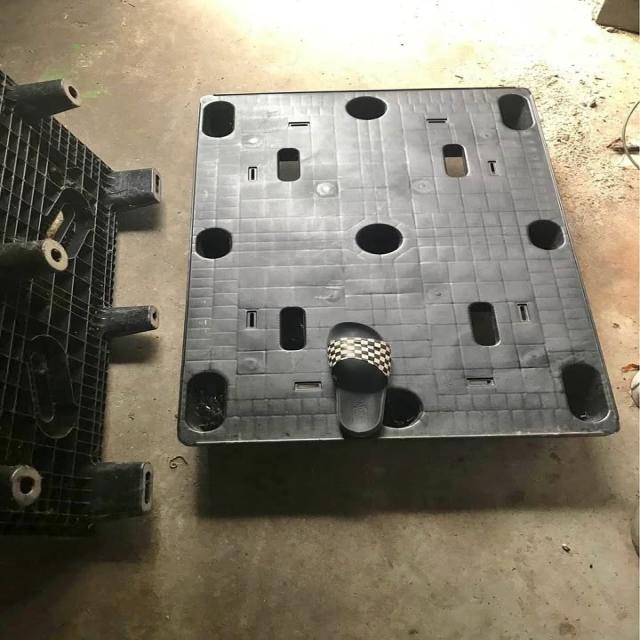non-igps: (168, 83, 630, 454), (0, 65, 171, 543)
